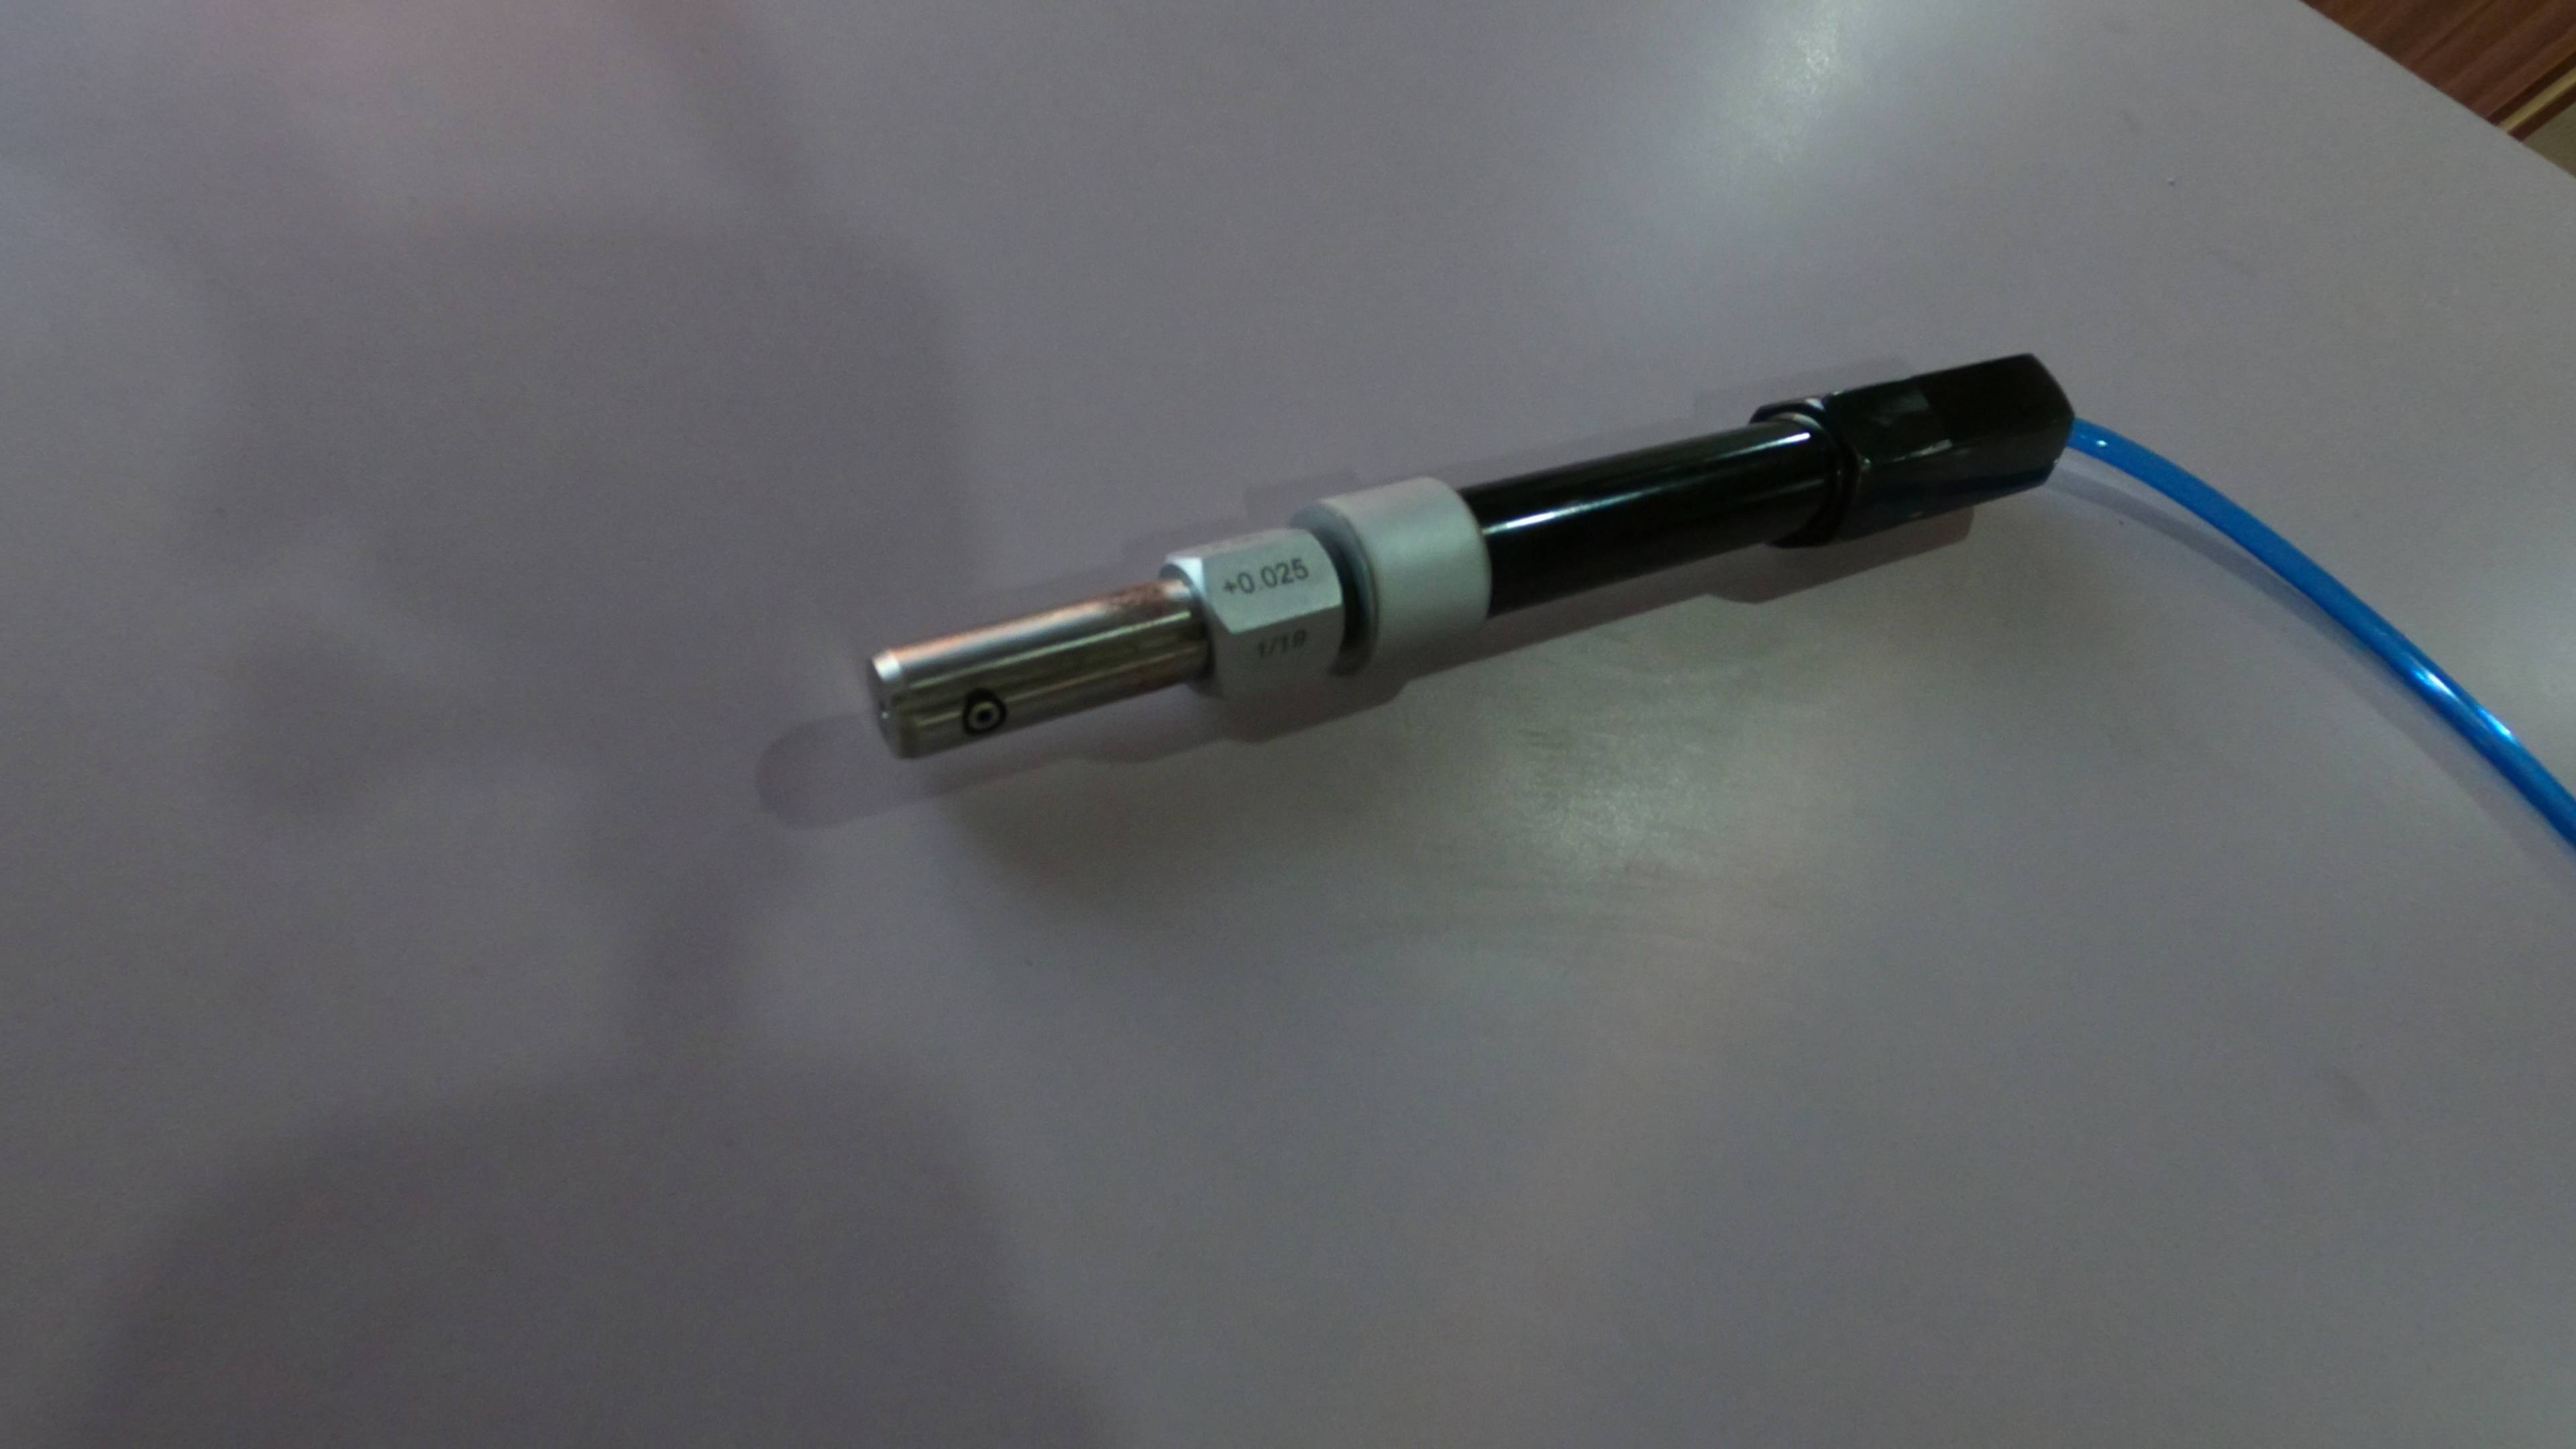air_gauge: (835, 350, 2084, 803)
